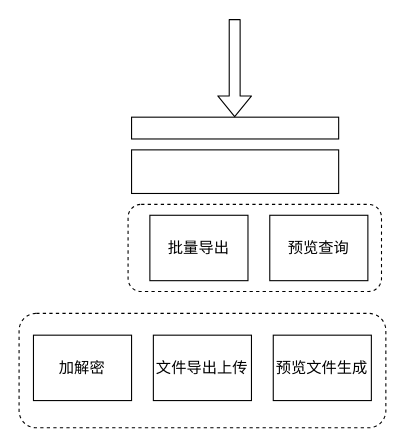
Some shapes in this 405 by 447 pixel diagram are drawn without their labels. The centre of each missing label's shape, as x and y in pixels:
"数据业务方 身份校验" goes at (234,171).
"限流" goes at (234,127).
